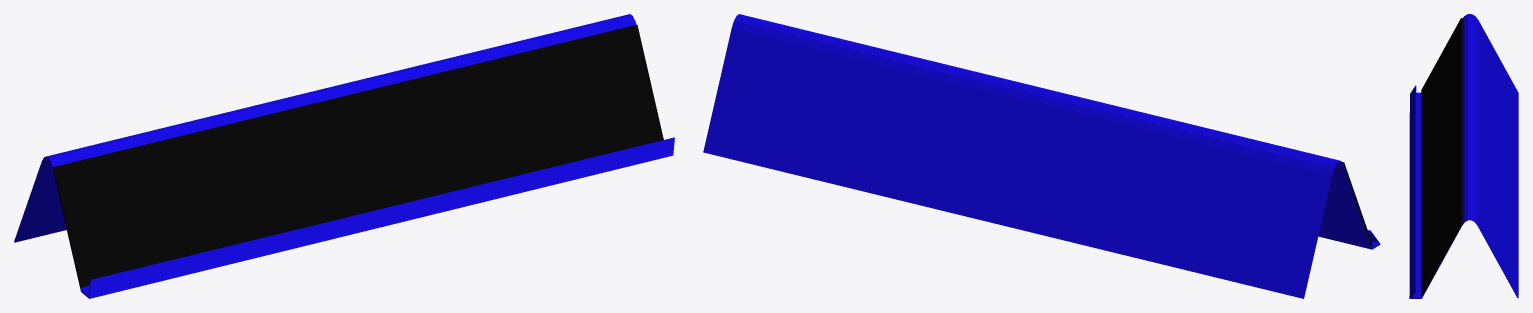
File: NamePlague.fbx
The picture shows the model from 3 angles, left to right: view 1: azimuth 30°, elevation 25°; view 2: azimuth 150°, elevation 25°; view 3: azimuth 270°, elevation 25°; orthographic projection. The views are drawn at different scales.
Parts seen in each view (by area): view 1: NamePlaque; view 2: NamePlaque; view 3: NamePlaque.
Part boxes in pixels (x1,y1,x2,y2): NamePlaque: (14, 14, 674, 298); NamePlaque: (703, 14, 1380, 298); NamePlaque: (1409, 14, 1518, 298).
Bounding box in the file's own units: 505 × 90.97 × 112.
